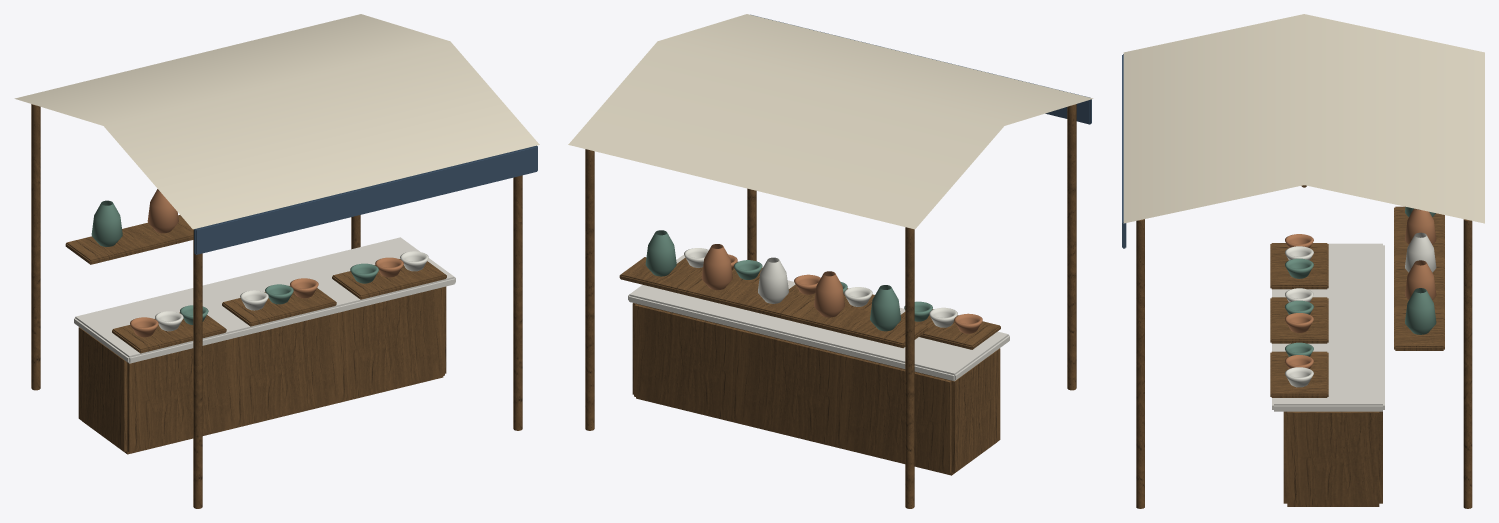
File: commons_v25_seto_booth.glb
3 renders of one model, left to right at view 1: azimuth 30°, elevation 25°; view 2: azimuth 150°, elevation 25°; view 3: azimuth 270°, elevation 25°, orthographic.
Parts seen in each view (by area): view 1: commons_v25_seto_booth_V25_woven_canopy, commons_v25_seto_booth_CC0_Oak_veneer, commons_v25_seto_booth_Honed_solid_surface, commons_v25_seto_booth_V25_fair_indigo, commons_v25_seto_booth_Glazed_ceramic_1, commons_v25_seto_booth_Glazed_ceramic_2, commons_v25_seto_booth_Glazed_ceramic_0; view 2: commons_v25_seto_booth_V25_woven_canopy, commons_v25_seto_booth_CC0_Oak_veneer, commons_v25_seto_booth_Honed_solid_surface, commons_v25_seto_booth_Glazed_ceramic_2, commons_v25_seto_booth_Glazed_ceramic_1, commons_v25_seto_booth_Glazed_ceramic_0, commons_v25_seto_booth_V25_fair_indigo; view 3: commons_v25_seto_booth_V25_woven_canopy, commons_v25_seto_booth_CC0_Oak_veneer, commons_v25_seto_booth_Honed_solid_surface, commons_v25_seto_booth_Glazed_ceramic_2, commons_v25_seto_booth_Glazed_ceramic_1, commons_v25_seto_booth_Glazed_ceramic_0, commons_v25_seto_booth_V25_fair_indigo.
Part boxes in pixels (x1,y1,x2,y2): commons_v25_seto_booth_V25_woven_canopy: [14, 14, 539, 229]; commons_v25_seto_booth_CC0_Oak_veneer: [31, 104, 522, 508]; commons_v25_seto_booth_Honed_solid_surface: [74, 237, 455, 363]; commons_v25_seto_booth_V25_fair_indigo: [194, 145, 537, 254]; commons_v25_seto_booth_Glazed_ceramic_1: [91, 200, 378, 324]; commons_v25_seto_booth_Glazed_ceramic_2: [130, 189, 403, 337]; commons_v25_seto_booth_Glazed_ceramic_0: [155, 251, 428, 331]; commons_v25_seto_booth_V25_woven_canopy: [568, 14, 1093, 229]; commons_v25_seto_booth_CC0_Oak_veneer: [585, 104, 1076, 508]; commons_v25_seto_booth_Honed_solid_surface: [628, 255, 1009, 381]; commons_v25_seto_booth_Glazed_ceramic_2: [701, 244, 982, 333]; commons_v25_seto_booth_Glazed_ceramic_1: [645, 230, 932, 331]; commons_v25_seto_booth_Glazed_ceramic_0: [684, 248, 957, 327]; commons_v25_seto_booth_V25_fair_indigo: [750, 14, 1091, 124]; commons_v25_seto_booth_V25_woven_canopy: [1123, 14, 1484, 223]; commons_v25_seto_booth_CC0_Oak_veneer: [1136, 185, 1472, 508]; commons_v25_seto_booth_Honed_solid_surface: [1272, 243, 1384, 411]; commons_v25_seto_booth_Glazed_ceramic_2: [1285, 208, 1436, 368]; commons_v25_seto_booth_Glazed_ceramic_1: [1285, 207, 1436, 356]; commons_v25_seto_booth_Glazed_ceramic_0: [1285, 232, 1436, 387]; commons_v25_seto_booth_V25_fair_indigo: [1122, 54, 1126, 248].
Bounding box in the file's own units: 3.34 × 3 × 2.99.
Materials: 7 (1 with a texture image).
